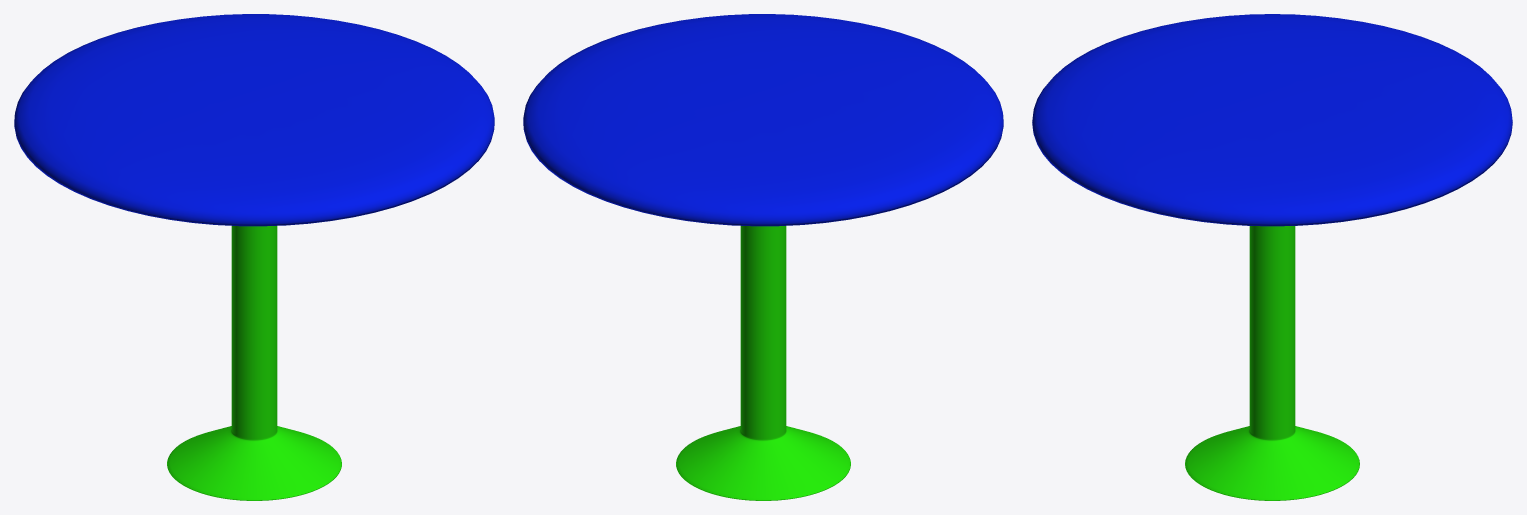
The model's file is Table.fbx.
3 views of the same model, side by side, from view 1: azimuth 30°, elevation 25°; view 2: azimuth 150°, elevation 25°; view 3: azimuth 270°, elevation 25° (orthographic).
Parts seen in each view (by area): view 1: table; view 2: table; view 3: table.
Boxes of the visible parts, x1,y1,x2,y2 form: table: (14, 14, 494, 500); table: (523, 14, 1003, 500); table: (1032, 14, 1512, 500).
Size of the model in its own units: 138 by 116 by 138.
